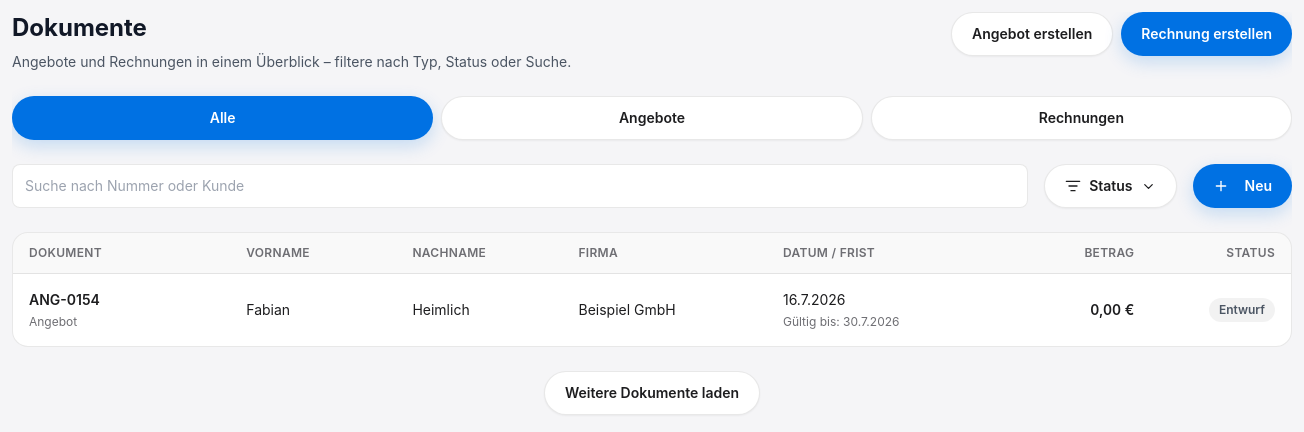
Scenario: DocumentsHubPage table view › passes search to the first server-filtered page
The image size is (1304, 432).
Step 1. Type "Beispiel" into the field with placeholder "Suche nach Nummer oder Kunde" → (520, 186), box left=12, top=164, right=1028, bottom=208
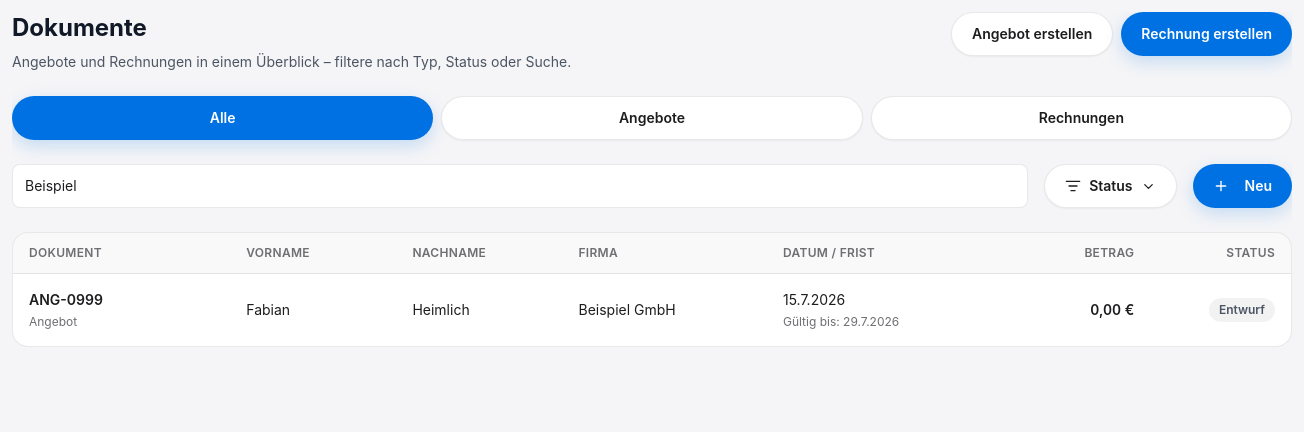
expect the text "ANG-0999" is shown: met, box left=29, top=291, right=103, bottom=308
expect the text "ANG-0154" is gone: met
